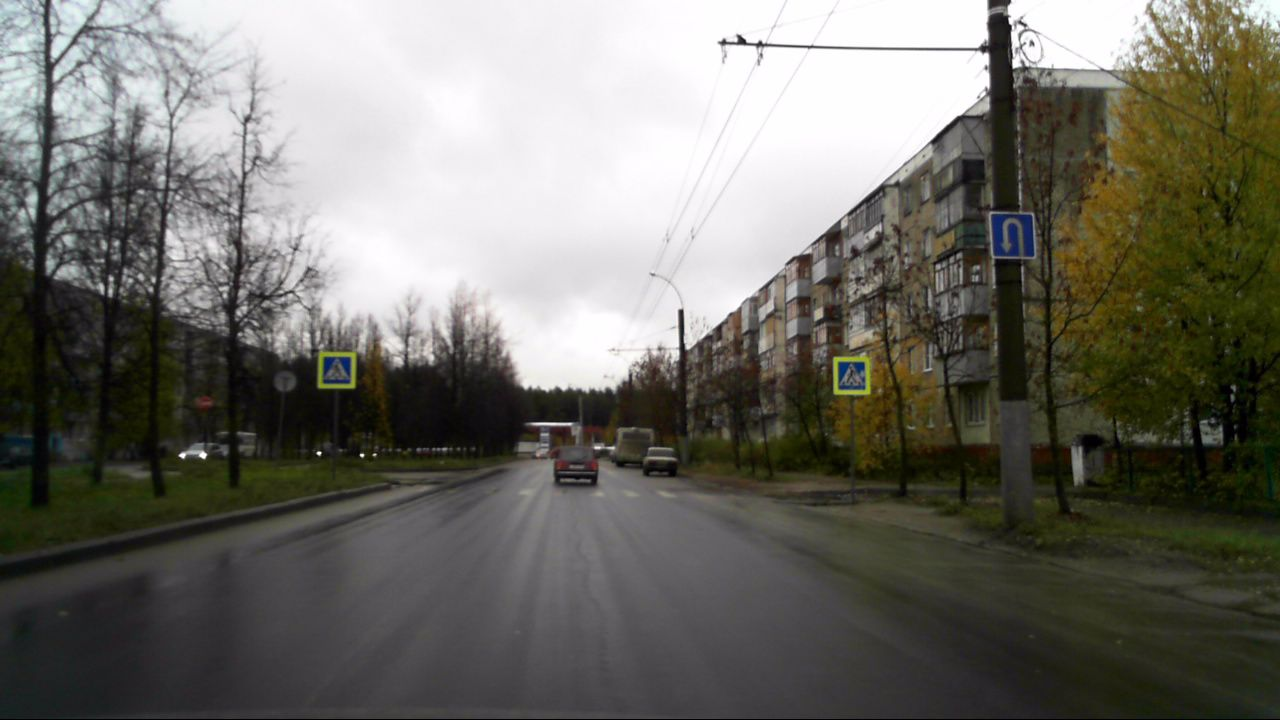Pedestrian Crossing: (838, 361, 866, 390), (323, 356, 351, 385)
U-turn: (991, 213, 1036, 258)
